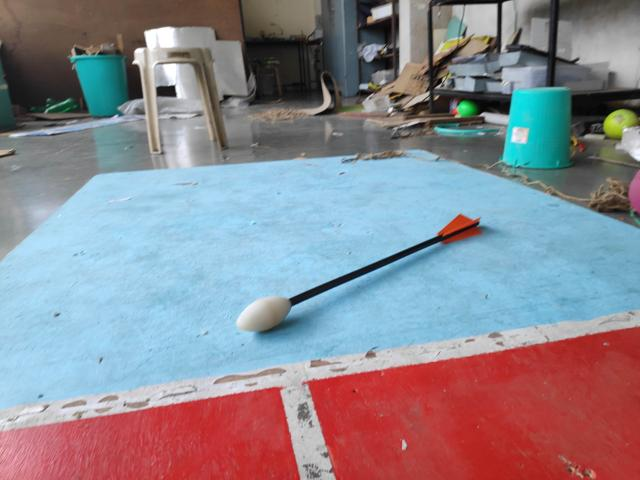Head: (233, 294, 294, 333)
Tail: (435, 209, 484, 246)
